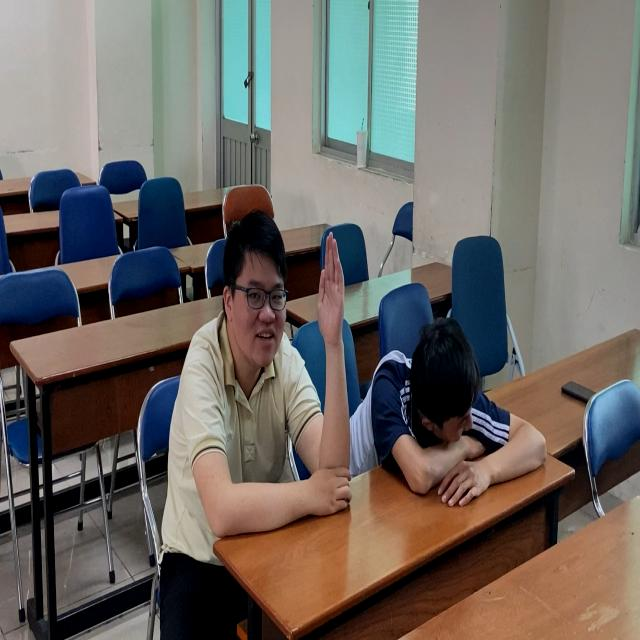raise_hand: (177, 206, 351, 533)
sleep: (365, 310, 549, 519)
